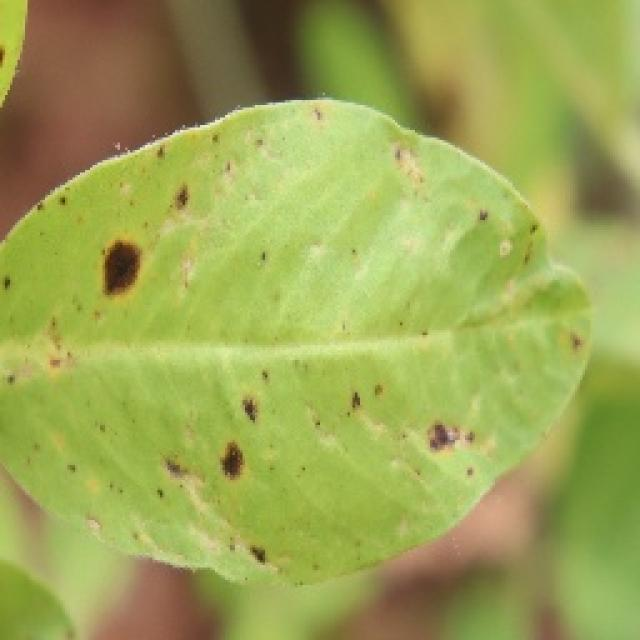Early_leaf_spot: (14, 111, 605, 609), (0, 260, 83, 452), (184, 358, 290, 496), (389, 375, 483, 481), (218, 508, 318, 590), (83, 205, 166, 292), (125, 432, 205, 510), (360, 130, 439, 207), (320, 352, 382, 430), (154, 176, 213, 243)
